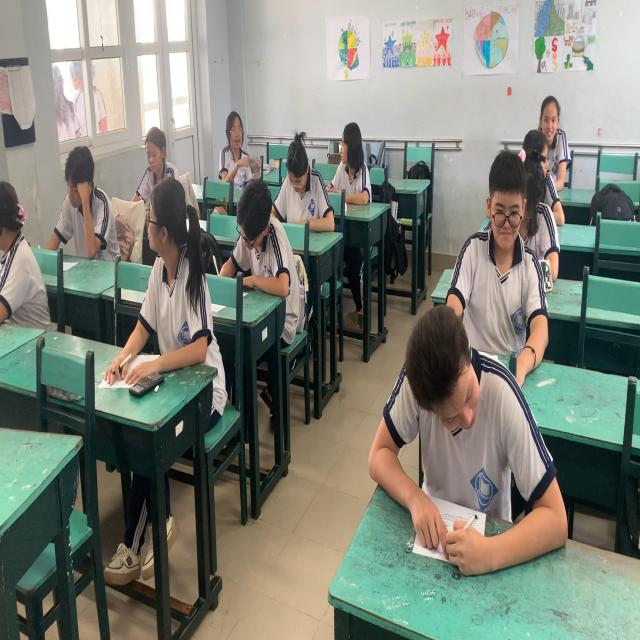cheating: (134, 177, 212, 364), (324, 114, 373, 206), (221, 112, 262, 182)
not_cheating: (361, 312, 536, 537), (470, 163, 548, 367), (225, 174, 289, 294), (280, 132, 342, 233), (58, 139, 103, 258), (136, 125, 178, 181), (536, 81, 561, 146)
